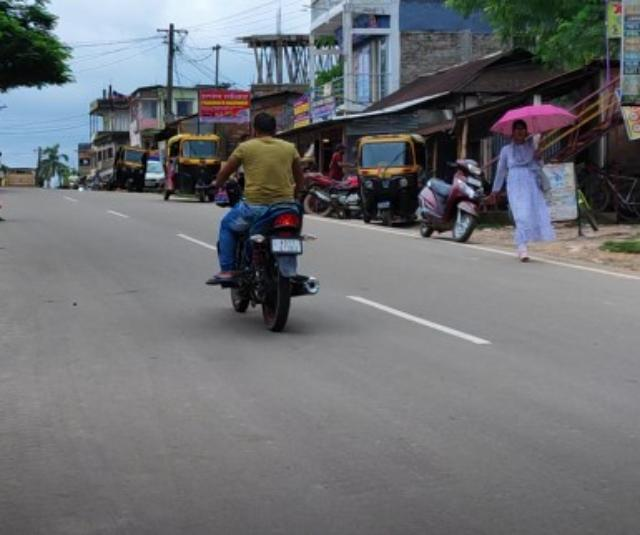licensePlate: (271, 238, 306, 255)
motorcycle: (197, 109, 318, 338)
withoutHelmet: (252, 111, 281, 140)
